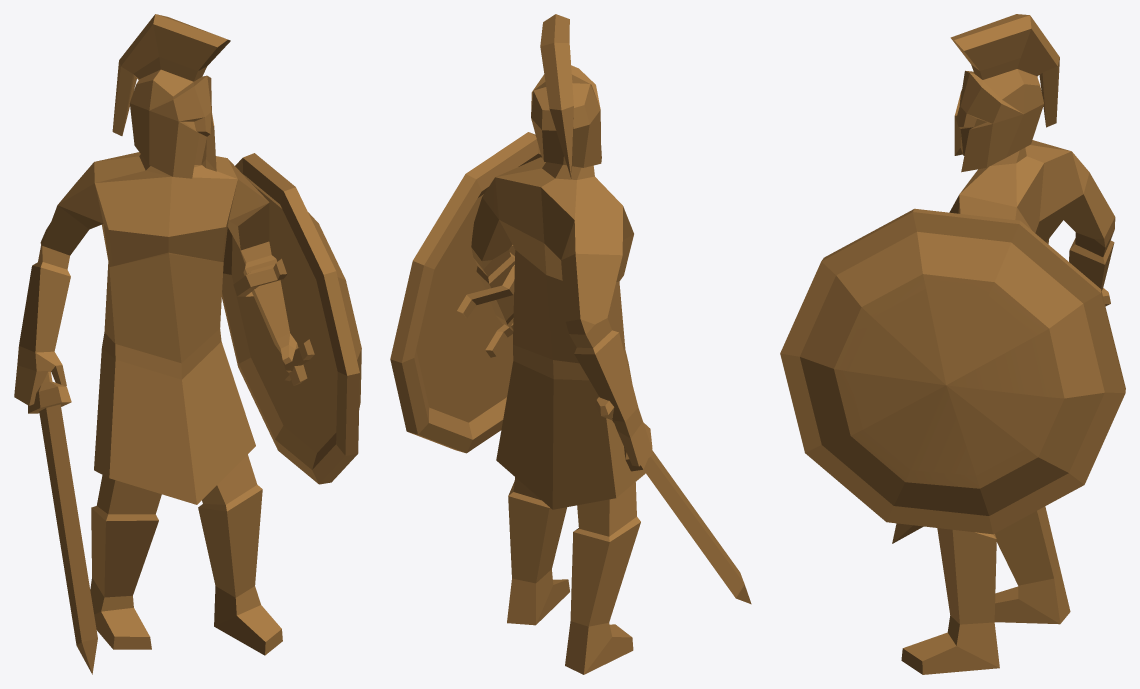
File: SM_Statue_Big_Ares_Empire.fbx
3 views of the same model, side by side, from view 1: azimuth 30°, elevation 25°; view 2: azimuth 150°, elevation 25°; view 3: azimuth 270°, elevation 25° (orthographic). The views are drawn at different scales.
Visible parts, largest first — view 1: SM_Statue_Big_Ares_Empire; view 2: SM_Statue_Big_Ares_Empire; view 3: SM_Statue_Big_Ares_Empire.
Boxes of the visible parts, bbox=[...] form: SM_Statue_Big_Ares_Empire: bbox=[14, 14, 361, 674]; SM_Statue_Big_Ares_Empire: bbox=[390, 14, 751, 674]; SM_Statue_Big_Ares_Empire: bbox=[780, 14, 1125, 674].
Size of the model in its own units: 3.62 by 7.81 by 3.93.
